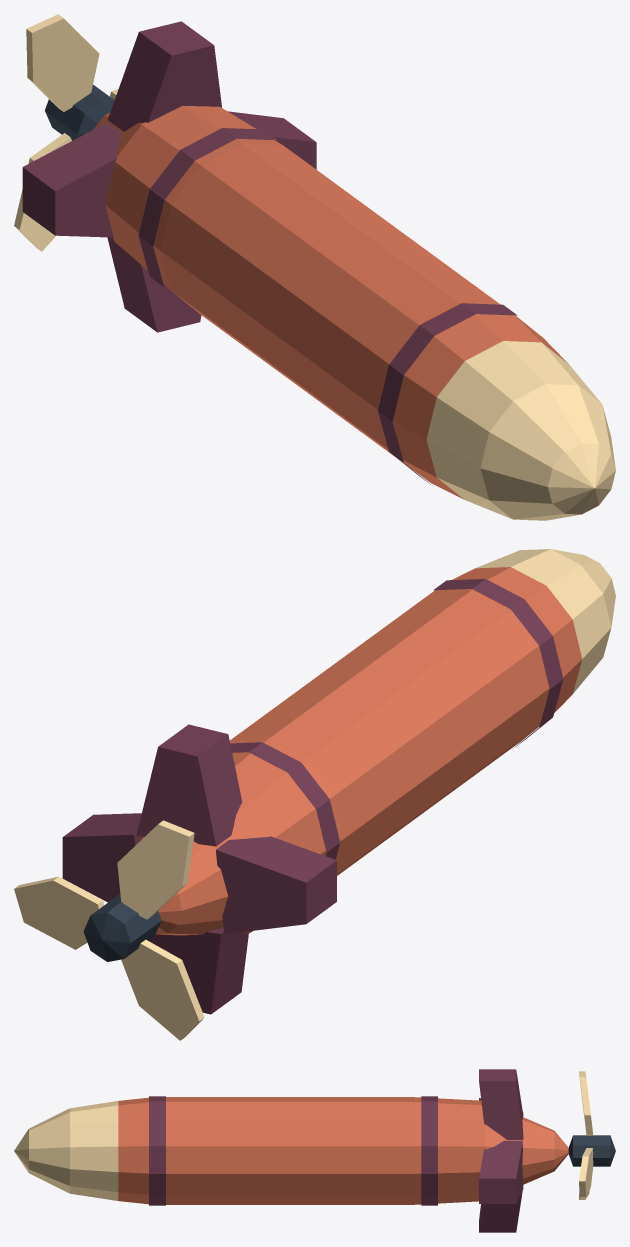
The model's file is torpedo-enemy.glb.
The picture shows the model from 3 angles, top to bottom: view 1: azimuth 30°, elevation 25°; view 2: azimuth 150°, elevation 25°; view 3: azimuth 270°, elevation 25°; orthographic projection. The views are drawn at different scales.
Parts seen in each view (by area): view 1: hull, propeller; view 2: hull, propeller; view 3: hull, propeller.
Boxes of the visible parts, <box> form: hull: <box>22,21,615,520</box>; propeller: <box>14,14,118,251</box>; hull: <box>62,549,615,1014</box>; propeller: <box>14,820,204,1040</box>; hull: <box>14,1069,568,1232</box>; propeller: <box>568,1071,615,1199</box>.
Size of the model in its own units: 0.92 by 0.92 by 3.23.
